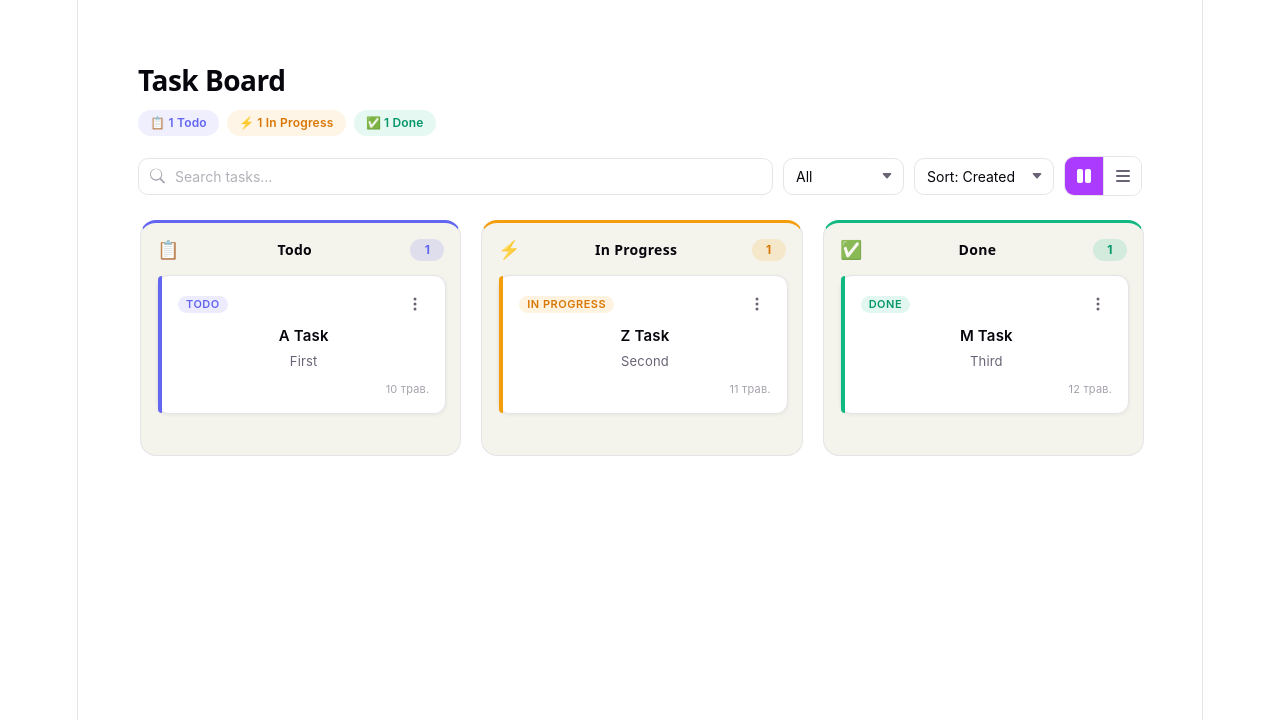
Scenario: TaskContainer Component - Filtering and Sorting › should search tasks by title
// Search for 'M Task'
Type "M Task" into the search field labelled "Search tasks" at [456, 176], box [138,158,773,195]
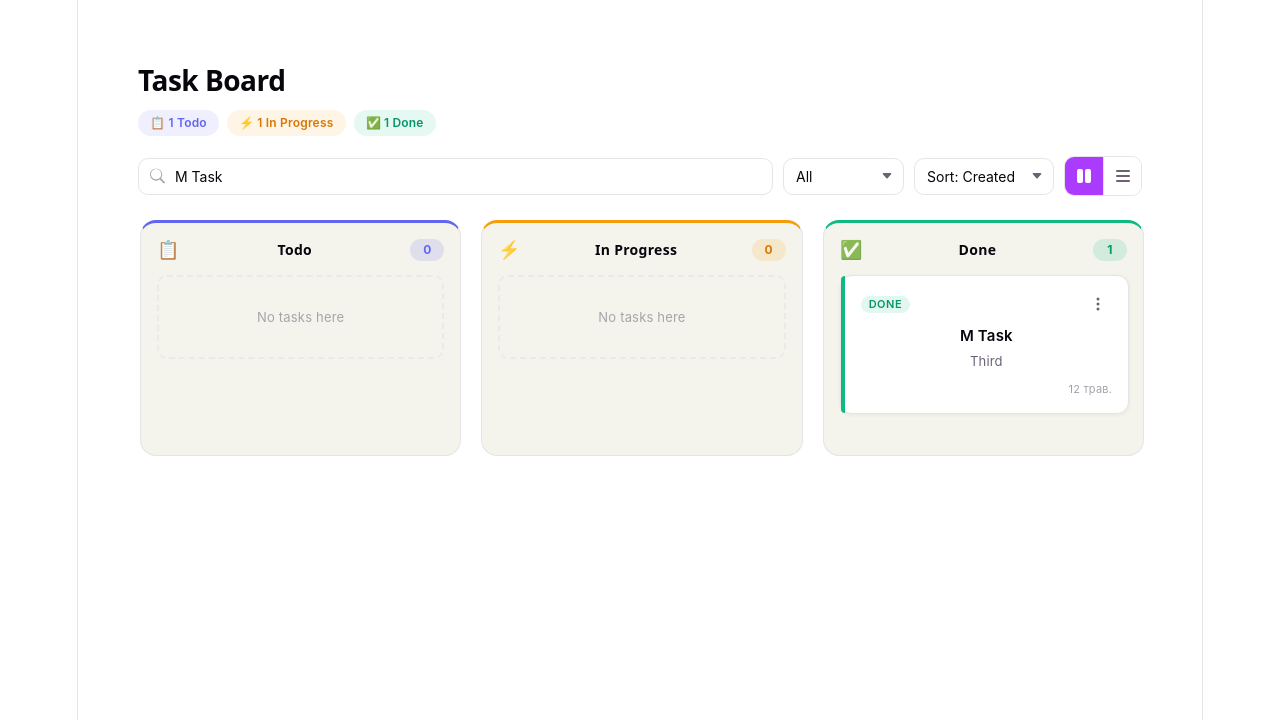
Expected: the heading "M Task" is shown, [960,326,1013,345]
Expected: the heading "A Task" is gone
Expected: the heading "Z Task" is gone
